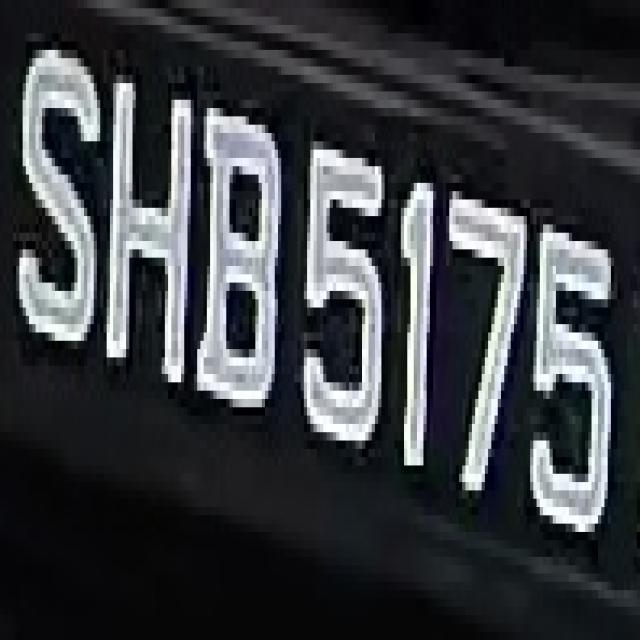1: (391, 150, 436, 482)
5: (530, 174, 624, 548), (294, 116, 385, 474)
7: (430, 158, 533, 524)
B: (197, 75, 285, 399)
H: (110, 50, 191, 391)
S: (13, 25, 100, 366)
